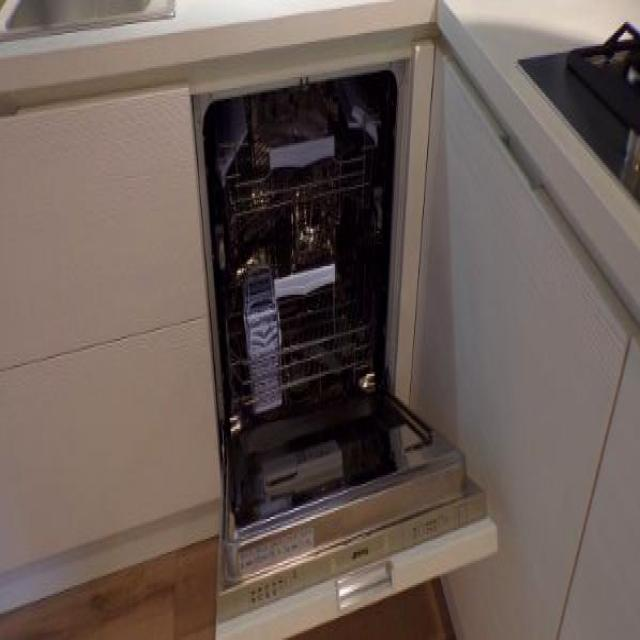dishwasher: (190, 40, 494, 638)
